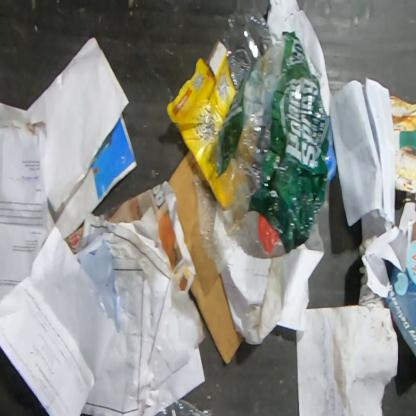cardboard: (167, 148, 246, 366), (166, 39, 239, 210), (389, 94, 415, 195)
soft_plastic: (193, 33, 286, 275), (248, 32, 332, 253), (222, 0, 273, 90), (152, 386, 214, 416)
